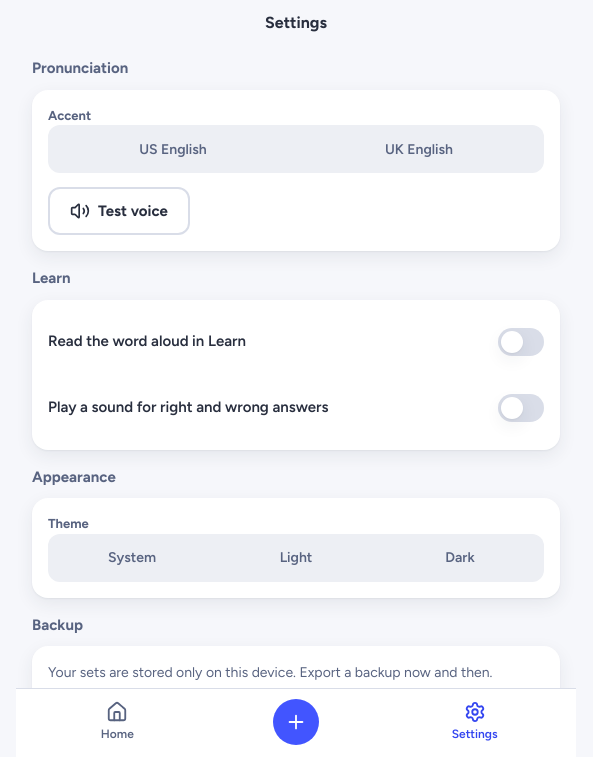
Test case: SettingsPage › toasts when saving the theme fails
Click the radio button labelled "Dark".
click(460, 558)  # box [445,549,475,566]
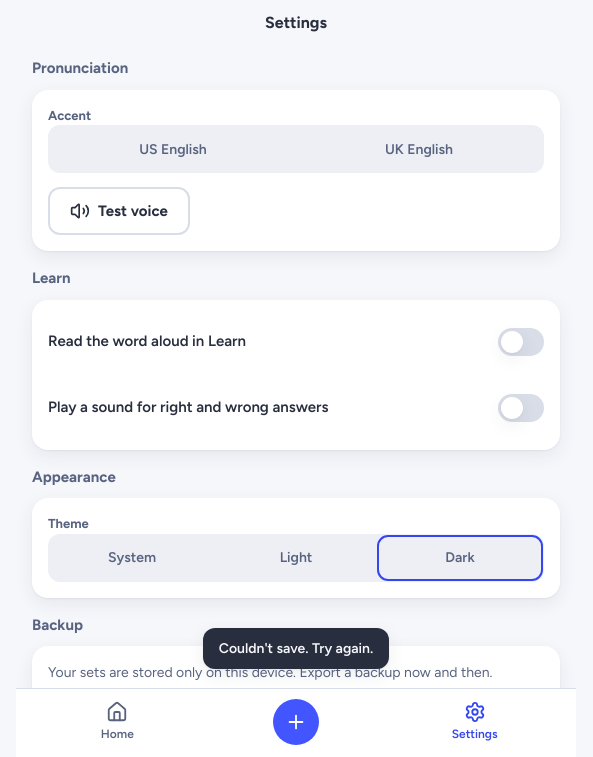
Expected: the text "Couldn't save. Try again." is shown, [203,628,389,669]
